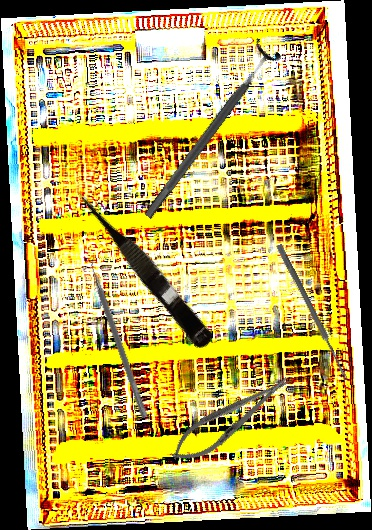Fixation Ring: (133, 37, 284, 226)
Micro Scissor: (69, 180, 220, 353)
Needle Holder: (164, 366, 298, 472)
Spatula Surgical: (83, 253, 155, 419)
Surgical Spoon: (275, 243, 350, 382)
